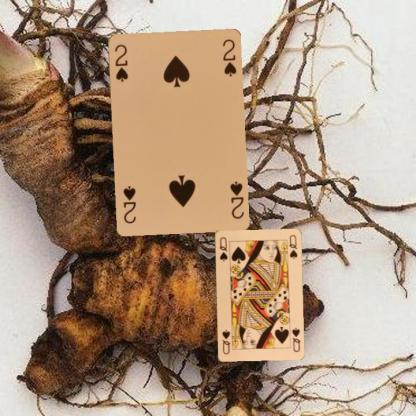2s: (112, 42, 130, 83), (227, 179, 245, 220)
Qs: (217, 234, 228, 262), (290, 325, 301, 353)
